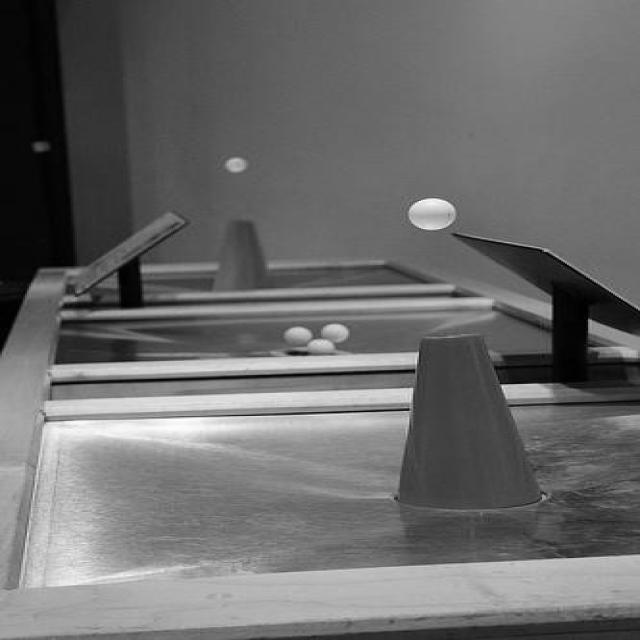ping-pong-ball: (406, 197, 458, 230), (321, 322, 354, 342), (284, 326, 312, 346), (306, 340, 334, 358), (226, 157, 248, 172), (33, 142, 49, 154)
